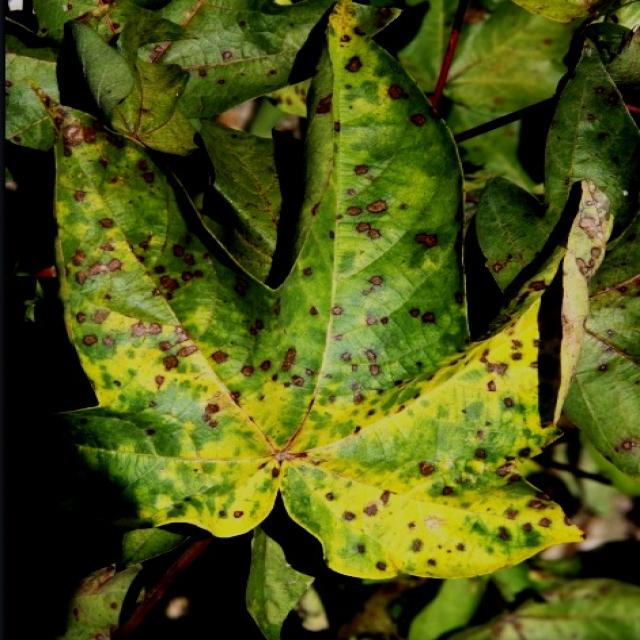Bacterial Blight: (109, 186, 478, 477)
